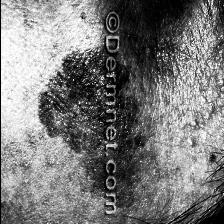Potentially Malignant Skin Tumors: (36, 49, 142, 211)
